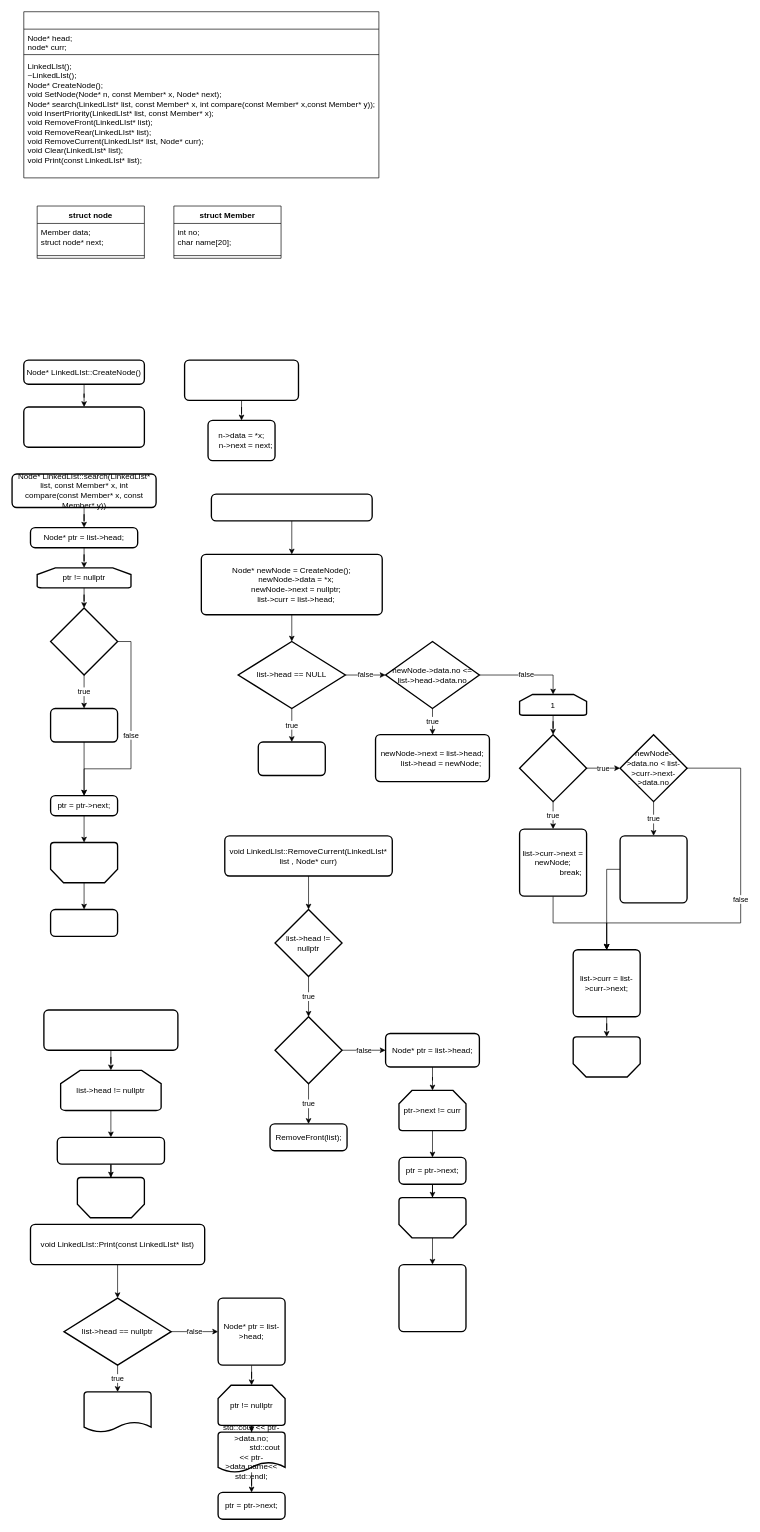
The diagram is 760 pixels wide and 1532 high, and some of its shapes have lost their labels. Each missing label, with the box of its shape:
class LinkedLIst: (23, 11, 379, 178)
compare(&ptr->data, x) == 0: (50, 607, 118, 675)
curr == list->head): (274, 1016, 342, 1084)
list->curr = ptr; return ptr;: (50, 708, 118, 742)
list->curr->next == NULL: (519, 734, 587, 802)
list->head = newNode;: (257, 741, 326, 776)
newNode->next = list->curr->next; list->curr->next = newNode; break;: (619, 835, 687, 903)
Node* newNode = new Node(); return newNode;: (23, 406, 145, 448)
ptr->next = curr->next; delete curr; curr = ptr;: (398, 1264, 466, 1332)
RemoveFront(list); list->curr = nullptr;: (56, 1136, 165, 1164)
return nullptr;: (50, 909, 118, 937)
std::cout << "노드없음";: (83, 1391, 151, 1432)
void LinkedLIst::Clear(LinkedLIst* list): (43, 1009, 178, 1051)
void LinkedLIst::InsertPriority(LinkedLIst* list, const Member* x): (210, 493, 373, 521)
void LinkedLIst::SetNode(Node* n, const Member* x, Node* next): (184, 359, 299, 401)
